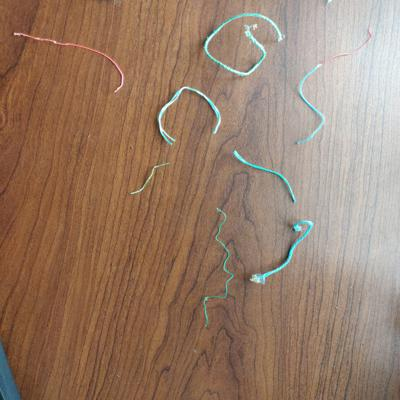thread: (7, 28, 129, 95), (185, 206, 236, 331), (202, 9, 291, 78), (246, 213, 318, 291), (155, 84, 224, 146), (230, 145, 297, 205), (291, 62, 333, 147), (326, 22, 375, 64), (127, 155, 173, 198)
